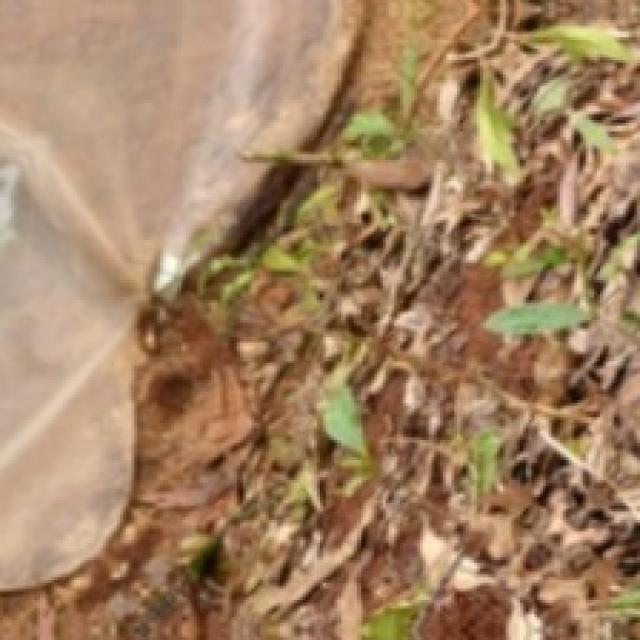king cobra: (0, 0, 357, 586)
